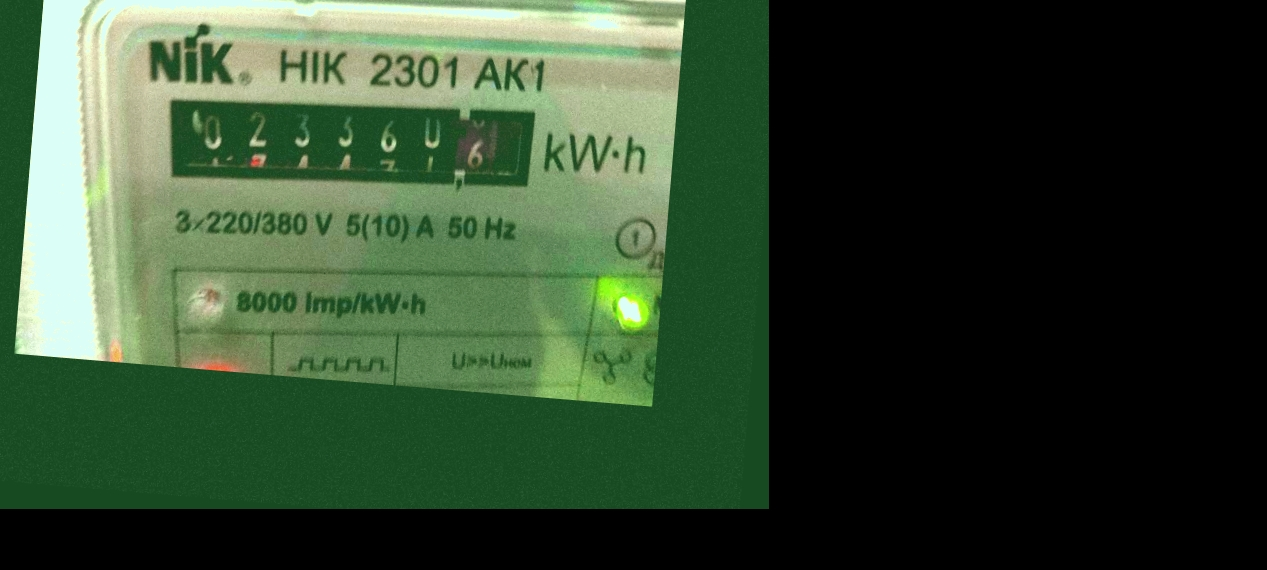0: (198, 108, 226, 152), (419, 111, 445, 150)
2: (242, 106, 271, 148)
3: (331, 109, 356, 149), (289, 108, 313, 149)
6: (373, 112, 402, 155), (464, 134, 488, 172)
screen: (141, 65, 550, 215)
